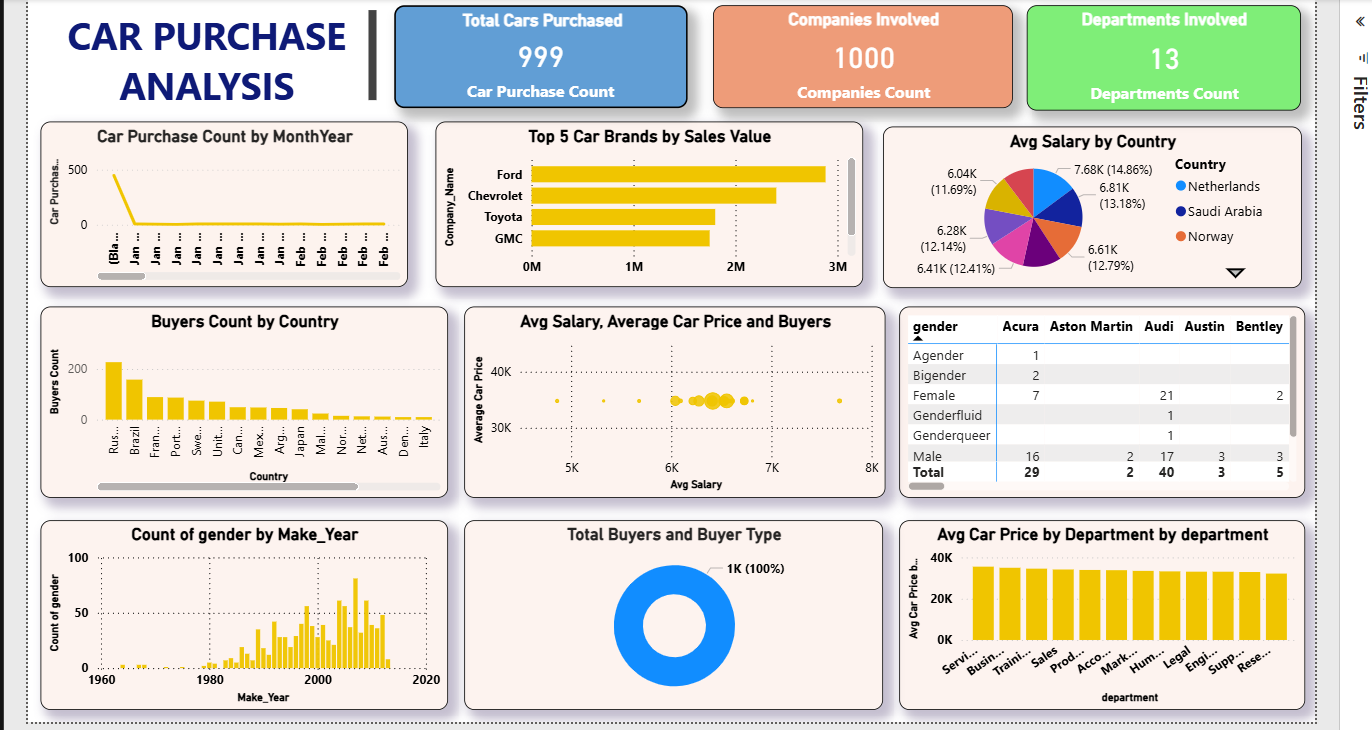

What the dashboard file says about the page in this screenshot:
{"tool":"powerbi","page":{"name":"Page 1","canvas":[1280,720],"ordinal":0},"visuals":[{"type":"card","title":"Total Cars Purchased","fields":{"Values":["Buyer Details.Car Purchase Count"]},"box":[364.5,6.2,292.3,102],"z":0},{"type":"card","title":"Companies Involved","fields":{"Values":["Buyer Details.Companies Count"]},"box":[681.7,6.2,298.6,102],"z":1000},{"type":"card","title":"Departments Involved","fields":{"Values":["Buyer Details.Departments Count"]},"box":[993.9,6.2,272.4,104.5],"z":2000},{"type":"barChart","title":"Top 5 Car Brands by Sales Value","fields":{"Y":["Buyer Details.Total Sales Value"],"Category":["Cars.Company_Name"]},"box":[405.3,122.3,425.2,165],"z":3000},{"type":"lineChart","fields":{"Category":["DateTable.MonthYear"],"Y":["Buyer Details.Car Purchase Count"]},"box":[12.8,122.3,365.5,165],"z":4000},{"type":"pieChart","fields":{"Category":["Company.Country"],"Y":["Buyer Details.Avg Salary"]},"box":[850.5,126.6,416.7,160.7],"z":5000},{"type":"columnChart","fields":{"Category":["Company.Country"],"Y":["Buyer Details.Buyers Count"]},"box":[12.8,305.8,405.3,190.6],"z":6000},{"type":"scatterChart","title":"Avg Salary, Average Car Price and Buyers","fields":{"X":["Buyer Details.Avg Salary"],"Y":["Buyer Details.Average Car Price"],"Category":["Company.Country"],"Size":["Buyer Details.Buyers Count"]},"box":[433.8,305.8,419.6,190.6],"z":7000},{"type":"pivotTable","fields":{"Rows":["Buyer Details.gender"],"Columns":["Cars.Company_Name"],"Values":["Buyer Details.Car Purchase Count"]},"box":[867.6,305.8,403.9,190.6],"z":8000},{"type":"columnChart","fields":{"Category":["Cars.Make_Year"],"Y":["CountNonNull(Buyer Details.gender)"]},"box":[12.8,519.1,405.3,189.2],"z":9000},{"type":"donutChart","fields":{"Y":["Buyer Details.Total Buyers"]},"box":[433.8,519.1,416.7,189.2],"z":10000},{"type":"columnChart","fields":{"Category":["Buyer Details.department"],"Y":["Buyer Details.Avg Car Price by Department"]},"box":[867.6,519.1,403.9,189.2],"z":11000},{"type":"textbox","box":[12.4,6.2,339.6,104.5],"z":11001}]}

Visuals, with their boxes in screenshot pixels (x1, y1, x2, y2):
"Total Cars Purchased" card: <bbox>363, 6, 666, 112</bbox>
"Companies Involved" card: <bbox>691, 6, 1000, 112</bbox>
"Departments Involved" card: <bbox>1014, 6, 1296, 115</bbox>
"Top 5 Car Brands by Sales Value" barChart: <bbox>405, 127, 845, 297</bbox>
lineChart - DateTable.MonthYear x Buyer Details.Car Purchase Count: <bbox>0, 127, 377, 297</bbox>
pieChart - Company.Country x Buyer Details.Avg Salary: <bbox>866, 131, 1297, 297</bbox>
columnChart - Company.Country x Buyer Details.Buyers Count: <bbox>0, 317, 418, 514</bbox>
"Avg Salary, Average Car Price and Buyers" scatterChart: <bbox>435, 317, 869, 514</bbox>
pivotTable - Buyer Details.gender x Cars.Company_Name: <bbox>884, 317, 1302, 514</bbox>
columnChart - Cars.Make_Year x CountNonNull(Buyer Details.gender): <bbox>0, 537, 418, 729</bbox>
donutChart - Buyer Details.Total Buyers: <bbox>435, 537, 866, 729</bbox>
columnChart - Buyer Details.department x Buyer Details.Avg Car Price by Department: <bbox>884, 537, 1302, 729</bbox>
textbox: <bbox>0, 6, 350, 115</bbox>
